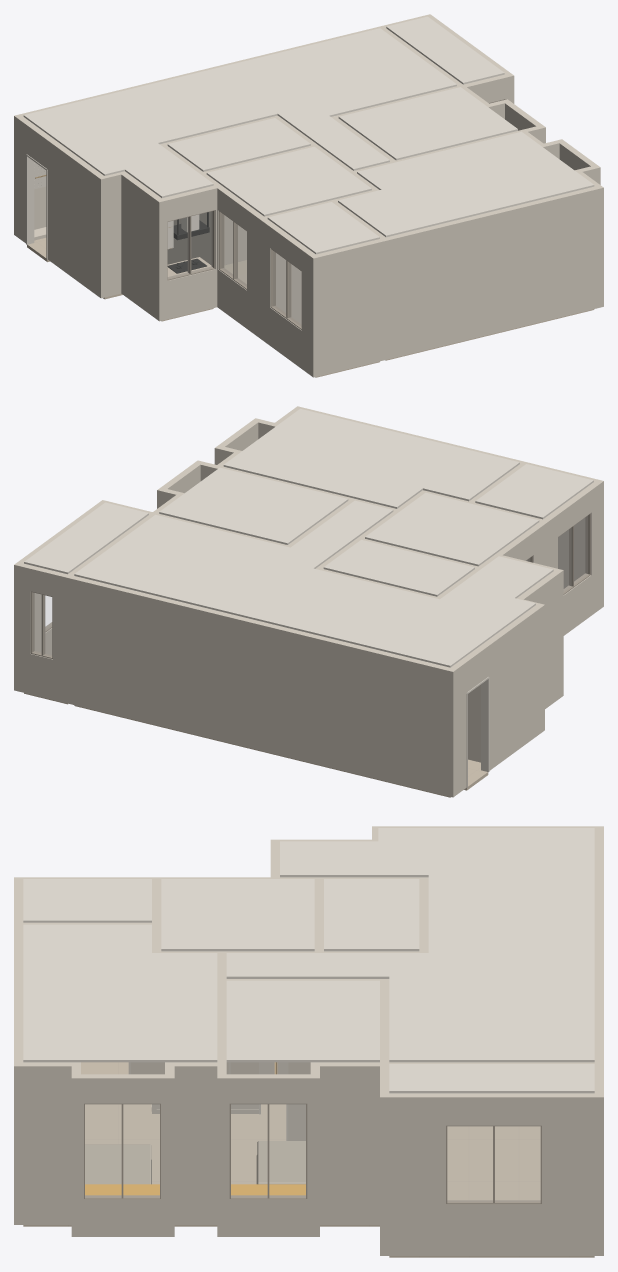
File: house.glb
The picture shows the model from 3 angles, top to bottom: view 1: azimuth 30°, elevation 25°; view 2: azimuth 150°, elevation 25°; view 3: azimuth 270°, elevation 25°; orthographic projection. The views are drawn at different scales.
Parts seen in each view (by area): view 1: WALL_EXT_014, CEILING_ROOM_003, CEILING_ROOM_008, WALL_EXT_020, CEILING_ROOM_007, CEILING_ROOM_006, CEILING_ROOM_002, WALL_EXT_017, WALL_EXT_015, WALL_EXT_018, CEILING_ROOM_005, WALL_EXT_016 (+17 smaller); view 2: WALL_EXT_001, CEILING_ROOM_003, CEILING_ROOM_008, WALL_EXT_020, CEILING_ROOM_007, CEILING_ROOM_006, CEILING_ROOM_002, WALL_EXT_002, CEILING_ROOM_005, WALL_EXT_015, CEILING_ROOM_004, CEILING_ROOM_009 (+14 smaller); view 3: CEILING_ROOM_003, WALL_EXT_003, CEILING_ROOM_008, CEILING_ROOM_007, CEILING_ROOM_006, CEILING_ROOM_002, WALL_EXT_005, WALL_EXT_013, WALL_EXT_009, CEILING_ROOM_005, ROOM_003, WINDOW_002_glazing (+32 smaller).
Part boxes in pixels (left/top/right/bottom): WALL_EXT_014: left=310, top=185, right=603, bottom=377; CEILING_ROOM_003: left=96, top=28, right=456, bottom=146; CEILING_ROOM_008: left=338, top=131, right=594, bottom=237; WALL_EXT_020: left=17, top=117, right=103, bottom=295; CEILING_ROOM_007: left=338, top=87, right=517, bottom=160; CEILING_ROOM_006: left=206, top=146, right=371, bottom=216; CEILING_ROOM_002: left=54, top=120, right=213, bottom=197; WALL_EXT_017: left=156, top=185, right=217, bottom=321; WALL_EXT_015: left=260, top=218, right=315, bottom=374; WALL_EXT_018: left=121, top=173, right=161, bottom=318; CEILING_ROOM_005: left=167, top=118, right=310, bottom=171; WALL_EXT_016: left=216, top=185, right=265, bottom=337; WALL_EXT_001: left=67, top=575, right=456, bottom=797; CEILING_ROOM_003: left=74, top=514, right=439, bottom=648; CEILING_ROOM_008: left=223, top=408, right=519, bottom=508; WALL_EXT_020: left=451, top=606, right=541, bottom=794; CEILING_ROOM_007: left=159, top=467, right=348, bottom=544; CEILING_ROOM_006: left=365, top=492, right=539, bottom=566; CEILING_ROOM_002: left=407, top=556, right=553, bottom=643; WALL_EXT_002: left=14, top=562, right=70, bottom=703; CEILING_ROOM_005: left=323, top=539, right=474, bottom=596; WALL_EXT_015: left=541, top=482, right=600, bottom=635; CEILING_ROOM_004: left=24, top=502, right=148, bottom=574; CEILING_ROOM_009: left=475, top=464, right=593, bottom=519; CEILING_ROOM_003: left=314, top=875, right=594, bottom=1062; WALL_EXT_003: left=389, top=1093, right=594, bottom=1255; CEILING_ROOM_008: left=23, top=924, right=217, bottom=1062; CEILING_ROOM_007: left=226, top=980, right=379, bottom=1062; CEILING_ROOM_006: left=161, top=879, right=314, bottom=951; CEILING_ROOM_002: left=280, top=828, right=511, bottom=877; WALL_EXT_005: left=320, top=1062, right=379, bottom=1224; WALL_EXT_013: left=23, top=1062, right=71, bottom=1224; WALL_EXT_009: left=174, top=1062, right=217, bottom=1224; CEILING_ROOM_005: left=324, top=879, right=419, bottom=951; ROOM_003: left=447, top=1126, right=540, bottom=1200; WINDOW_002_glazing: left=448, top=1127, right=539, bottom=1201.
Bounding box in the file's own units: 10.26 × 2.94 × 9.43.
22 materials, 3 textured.
